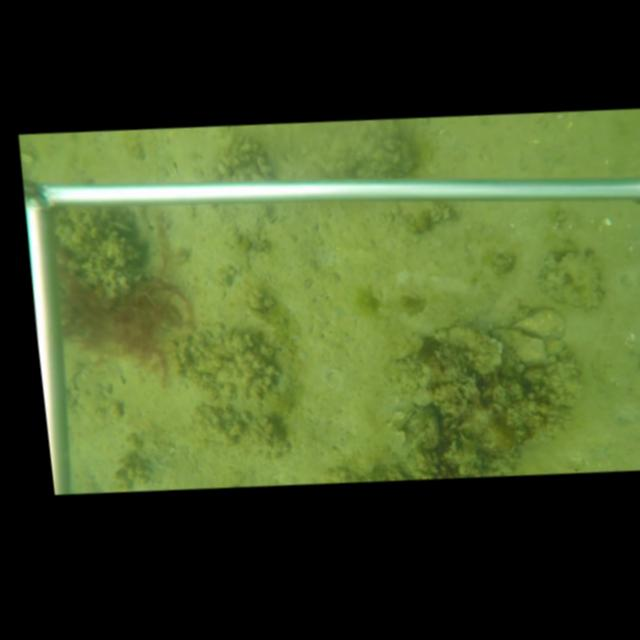Oyster-Closed: (507, 307, 567, 340)
Oyster-Indeterminate: (535, 248, 607, 315), (430, 323, 503, 382), (489, 325, 549, 365)
Oyster-Open: (403, 404, 432, 431)
